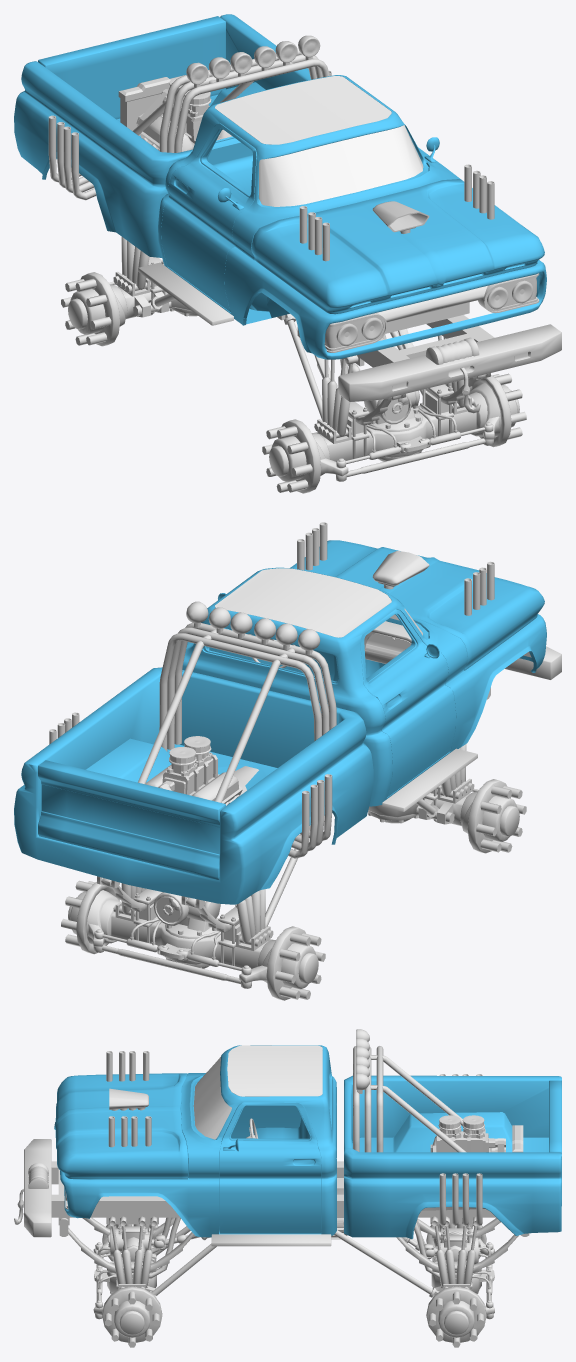
File: truck.glb
3 renders of one model, top to bottom at view 1: azimuth 30°, elevation 25°; view 2: azimuth 150°, elevation 25°; view 3: azimuth 270°, elevation 25°, orthographic. The views are drawn at different scales.
Parts seen in each view (by area): view 1: BodyC10.003, BodyC10.007, BodyC10.013, BodyC10.017, BodyC10, BodyC10.010, BodyC10.012, ChevyVan_Body.001, FordF_Body.004, BodyC10.016, AxlesOne_COM.002, BodyC10.020 (+1 smaller); view 2: BodyC10.003, BodyC10.007, BodyC10.010, BodyC10.016, FordF_Body.004, ChevyVan_Body.001, BodyC10.013, AxlesOne_COM.003, BodyC10.017, BodyC10, AxlesOne_COM.002, BodyC10.012; view 3: BodyC10.003, BodyC10.007, BodyC10.016, BodyC10.017, BodyC10.013, ChevyVan_Body.001, FordF_Body.004, BodyC10.020, BodyC10.012, AxlesOne_COM.002, BodyC10, AxlesOne_COM.003 (+1 smaller).
Part boxes in pixels (x1,y1,x2,y2): BodyC10.003: (14,14,546,359); BodyC10.007: (161,123,544,314); BodyC10.013: (215,76,423,206); BodyC10.017: (262,314,526,493); BodyC10: (138,201,539,352); BodyC10.010: (38,16,225,119); BodyC10.012: (338,324,561,413); ChevyVan_Body.001: (48,68,494,261); FordF_Body.004: (132,35,329,152); BodyC10.016: (61,237,175,346); AxlesOne_COM.002: (315,334,476,461); BodyC10.020: (278,315,494,367); BodyC10.003: (14,567,546,904); BodyC10.007: (186,540,544,797); BodyC10.010: (38,760,225,879); BodyC10.016: (61,825,325,1000); FordF_Body.004: (138,601,336,802); ChevyVan_Body.001: (49,522,494,858); BodyC10.013: (215,568,422,637); AxlesOne_COM.003: (111,892,273,968); BodyC10.017: (416,687,526,853); BodyC10: (364,551,531,811); AxlesOne_COM.002: (368,793,469,826); BodyC10.012: (504,646,561,679); BodyC10.003: (60,1045,561,1239); BodyC10.007: (54,1073,321,1233); BodyC10.016: (334,1216,529,1347); BodyC10.017: (59,1216,216,1347); BodyC10.013: (193,1045,322,1139); ChevyVan_Body.001: (106,1051,523,1225); FordF_Body.004: (353,1029,494,1152); BodyC10.020: (51,1161,495,1225); BodyC10.012: (14,1139,51,1237); AxlesOne_COM.002: (94,1178,347,1297); BodyC10: (65,1088,485,1246); AxlesOne_COM.003: (402,1219,494,1297).
Size of the model in its own units: 2.78 by 3.14 by 6.16.
